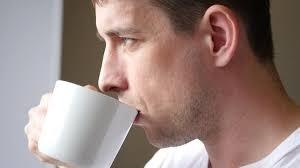Drinking: (28, 0, 235, 168)
